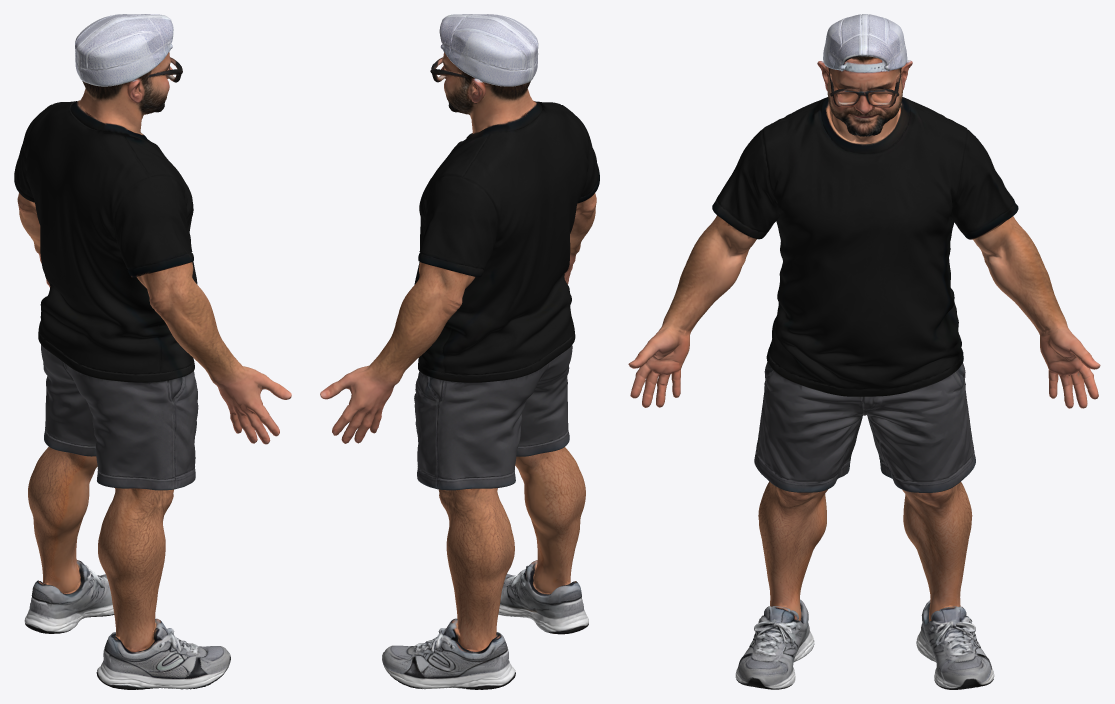
The model's file is body.glb.
3 views of the same model, side by side, from view 1: azimuth 30°, elevation 25°; view 2: azimuth 150°, elevation 25°; view 3: azimuth 270°, elevation 25° (orthographic). The views are drawn at different scales.
Visible parts, largest first — view 1: tripo_node_eb23c465-06bc-4b1d-a2fb-60a48190adc4; view 2: tripo_node_eb23c465-06bc-4b1d-a2fb-60a48190adc4; view 3: tripo_node_eb23c465-06bc-4b1d-a2fb-60a48190adc4.
Part boxes in pixels (bbox=[...]): tripo_node_eb23c465-06bc-4b1d-a2fb-60a48190adc4: bbox=[14, 14, 291, 689]; tripo_node_eb23c465-06bc-4b1d-a2fb-60a48190adc4: bbox=[320, 14, 599, 689]; tripo_node_eb23c465-06bc-4b1d-a2fb-60a48190adc4: bbox=[628, 14, 1100, 689].
Bounding box in the file's own units: 0.2075 × 0.9795 × 0.6439.
Materials: 1 (1 with a texture image).
